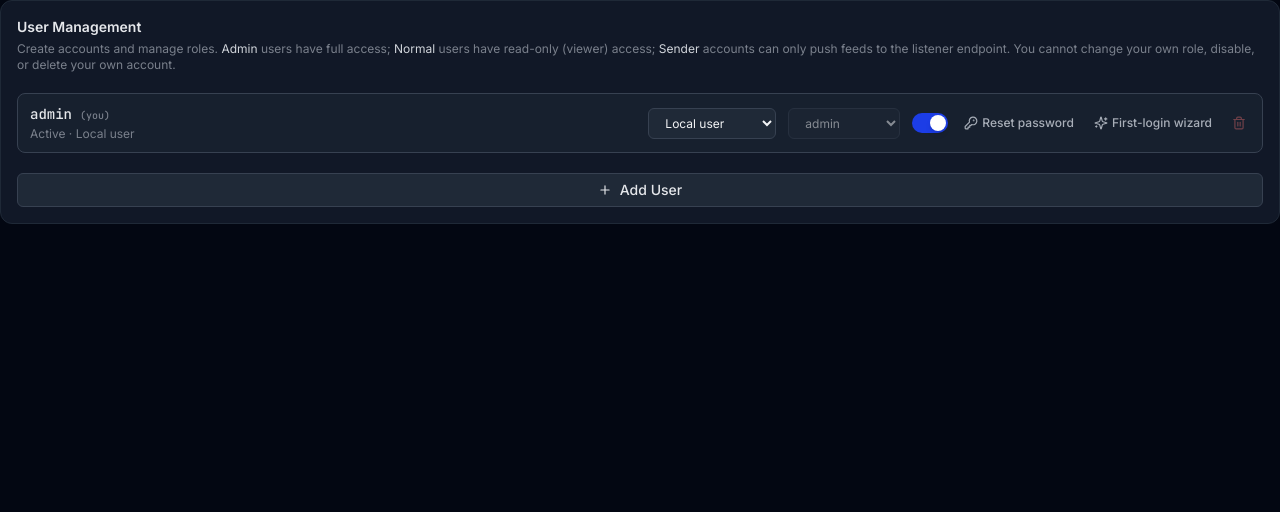
UserManagementTab organizations › create form: unchecking the email-username checkbox previews the bare local-part
Step 1. Click the button "Add User" → [640, 190], box [17,173,1263,207]
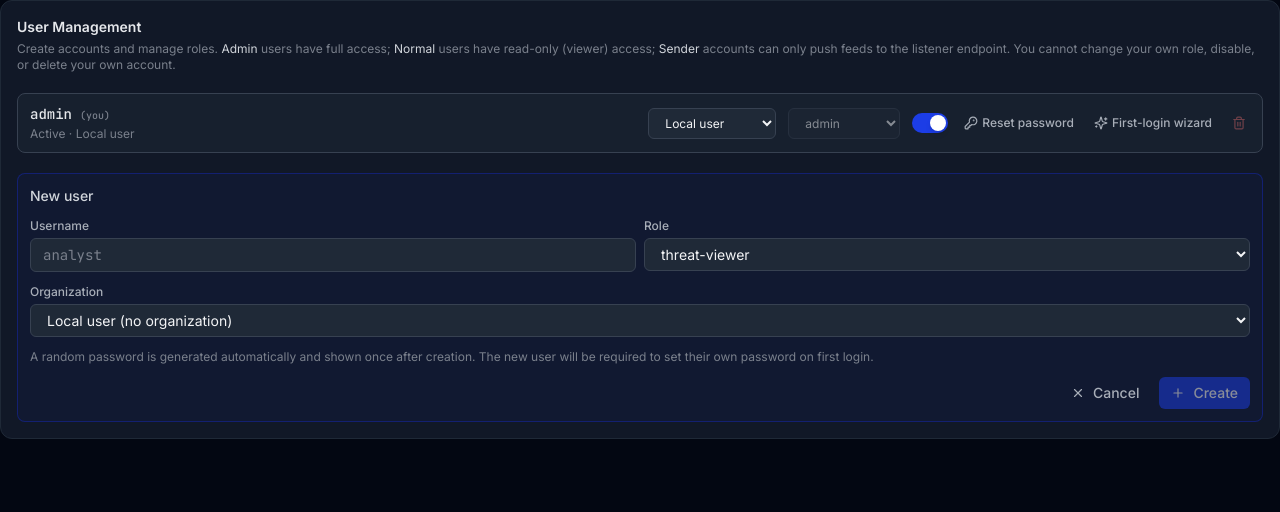
Step 2. Type "bob" into the field labelled "Username" → [333, 255], box [30,238,636,272]
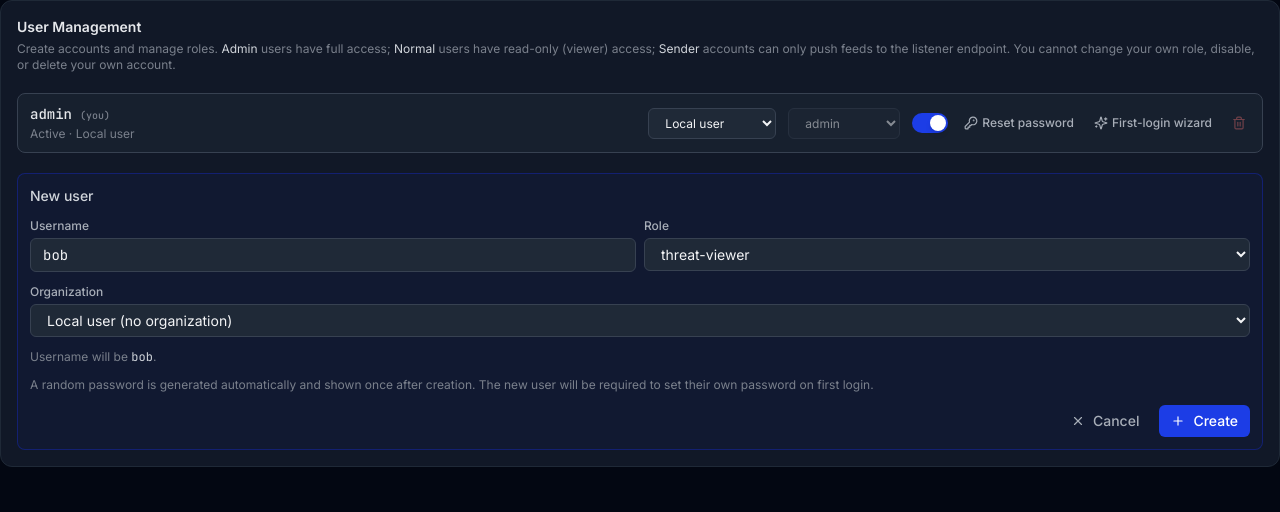
Step 3. Select "Acme (acme.com)" in the dropdown labelled "Organization" → [640, 320], box [30,304,1250,337]
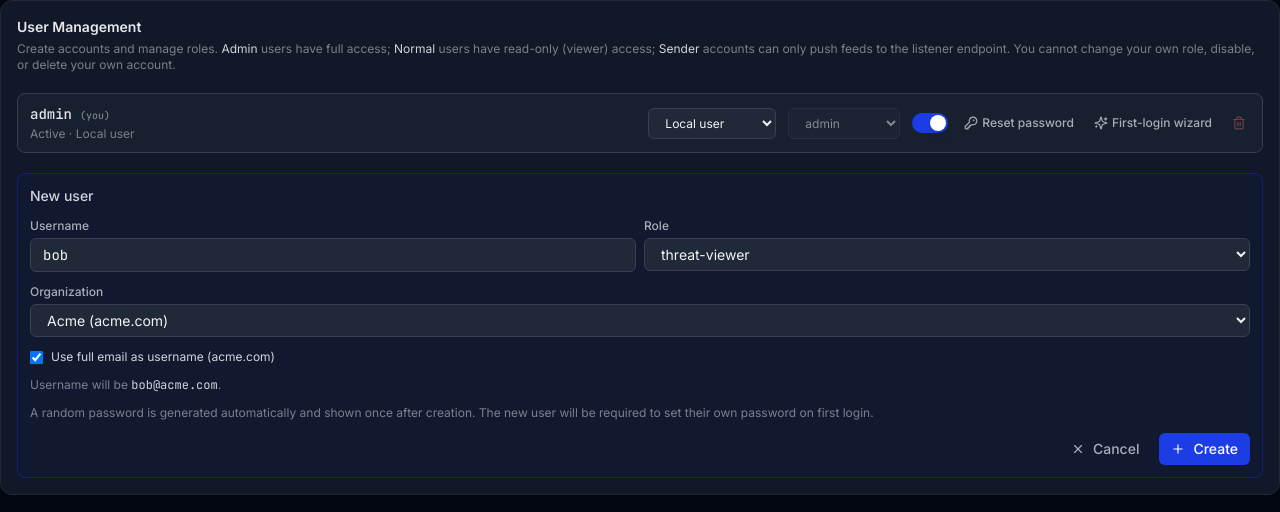
Step 4. Click the checkbox labelled "Use full email as username (acme.com)" → [36, 357], box [30,350,43,364]
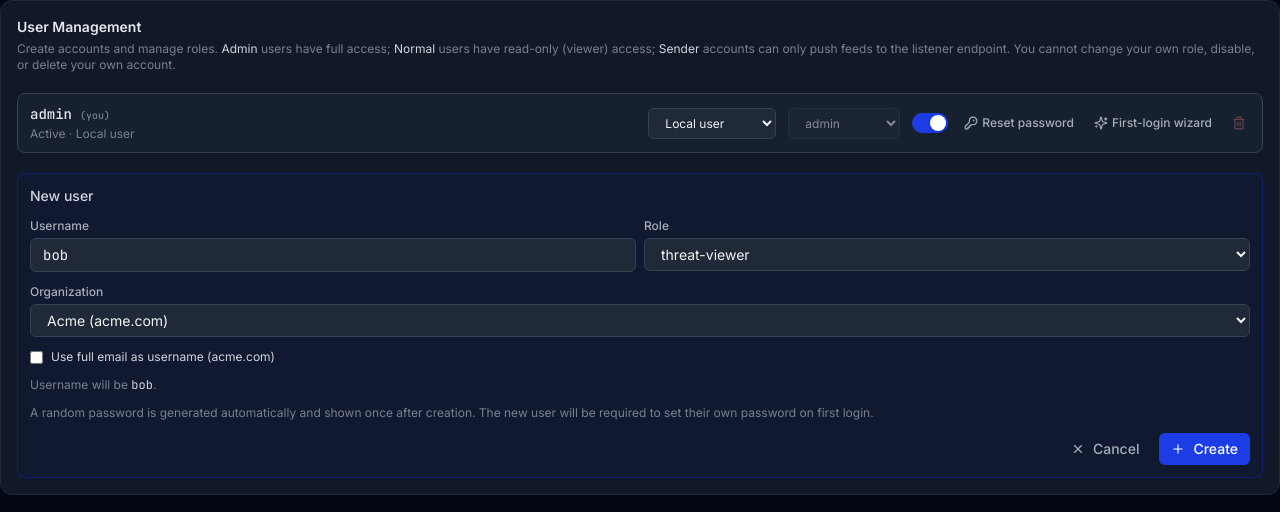
Expected: the text "bob" is shown, [131,377,153,393]
Expected: the text "bob@acme.com" is gone
